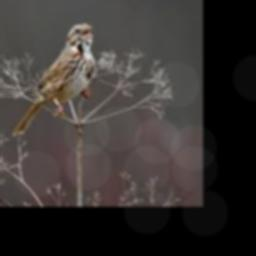Sparrow: (12, 22, 96, 136)
